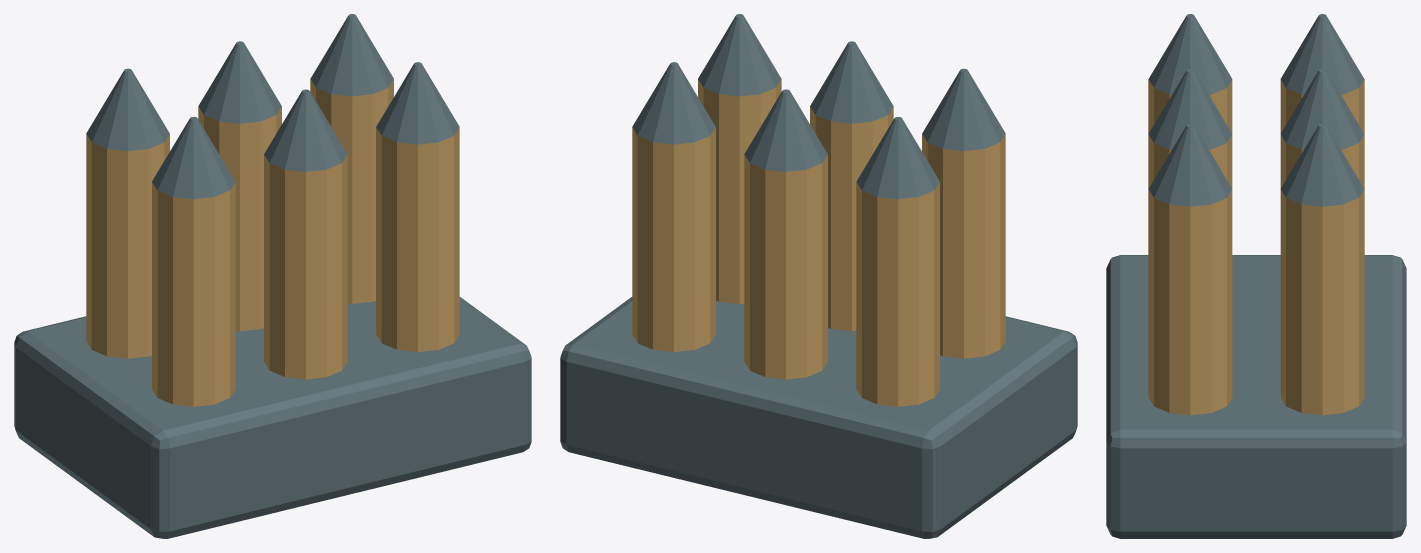
Rendered from ammo_model.glb.
3 renders of one model, left to right at view 1: azimuth 30°, elevation 25°; view 2: azimuth 150°, elevation 25°; view 3: azimuth 270°, elevation 25°, orthographic.
Parts seen in each view (by area): view 1: Ammunition tray, Cartridge.002, Cartridge, Cartridge.004, Cartridge.001, Cartridge.003, Cartridge.005, Bullet tip.005, Bullet tip, Bullet tip.001, Bullet tip.002, Bullet tip.003 (+1 smaller); view 2: Ammunition tray, Cartridge.003, Cartridge.001, Cartridge.005, Cartridge, Cartridge.002, Cartridge.004, Bullet tip.004, Bullet tip, Bullet tip.001, Bullet tip.002, Bullet tip.003 (+1 smaller); view 3: Ammunition tray, Cartridge.004, Cartridge.005, Bullet tip.004, Bullet tip.005, Bullet tip, Bullet tip.001, Bullet tip.002, Bullet tip.003, Cartridge.002, Cartridge.003, Cartridge (+1 smaller).
Boxes of the visible parts, x1,y1,x2,y2 form: Ammunition tray: (14,297,531,538); Cartridge.002: (264,155,347,379); Cartridge: (152,182,235,406); Cartridge.004: (376,127,459,351); Cartridge.001: (86,134,169,358); Cartridge.003: (198,106,281,331); Cartridge.005: (310,79,393,303); Bullet tip.005: (310,14,393,96); Bullet tip: (152,117,235,199); Bullet tip.001: (86,68,169,151); Bullet tip.002: (264,89,347,171); Bullet tip.003: (198,41,281,123); Ammunition tray: (560,297,1077,538); Cartridge.003: (744,155,827,379); Cartridge.001: (856,182,939,406); Cartridge.005: (632,127,715,351); Cartridge: (922,134,1005,358); Cartridge.002: (810,106,893,331); Cartridge.004: (698,79,781,303); Bullet tip.004: (698,14,781,96); Bullet tip: (922,68,1005,151); Bullet tip.001: (856,117,939,199); Bullet tip.002: (810,41,893,123); Bullet tip.003: (744,89,827,171); Ammunition tray: (1106,255,1406,538); Cartridge.004: (1148,189,1232,415); Cartridge.005: (1280,189,1364,415); Bullet tip.004: (1148,124,1232,206); Bullet tip.005: (1280,124,1364,206); Bullet tip: (1148,14,1232,94); Bullet tip.001: (1280,14,1364,94); Bullet tip.002: (1148,69,1232,149); Bullet tip.003: (1280,69,1364,149); Cartridge.002: (1148,134,1232,188); Cartridge.003: (1280,134,1364,188); Cartridge: (1148,79,1232,133).
Bounding box in the file's own units: 0.22 × 0.21 × 0.15.
